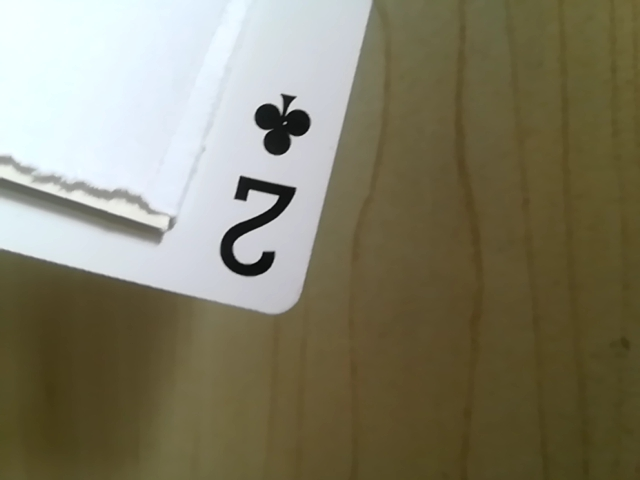mh 2: (159, 79, 325, 320)
